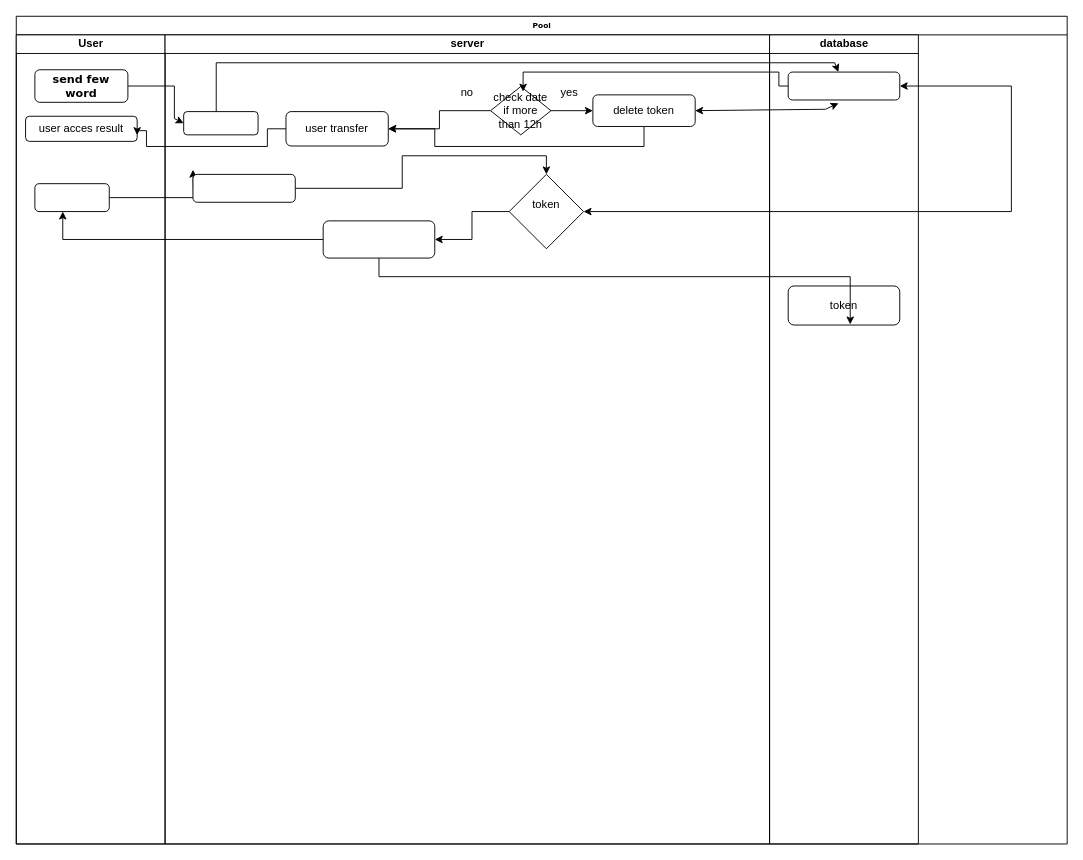
Image size: 1083x860. Some labels were removed from this diagram. The centre of each missing label's shape, as x and y in pixels:
check token: the point at 243,187
generate token 1 time: the point at 378,239
randomnized: the point at 220,123
token pre-auth: the point at 843,85
user get access: the point at 71,197
